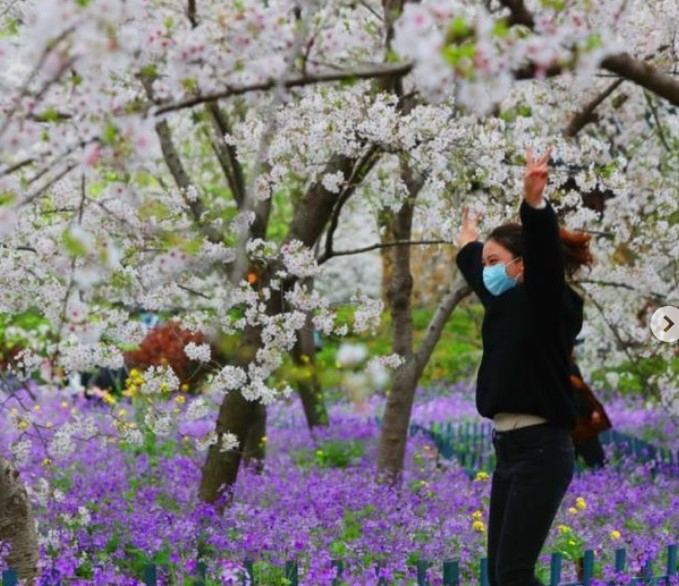face_with_mask: (480, 226, 525, 296)
